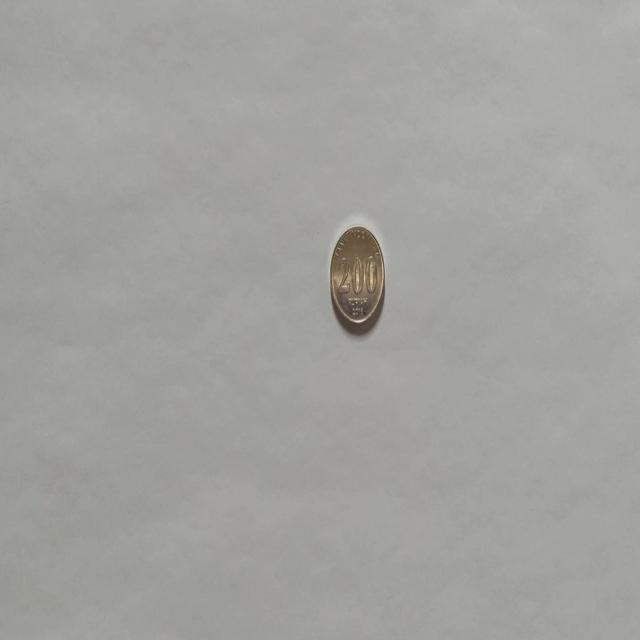dua ratus rupiah: (329, 224, 385, 332)
